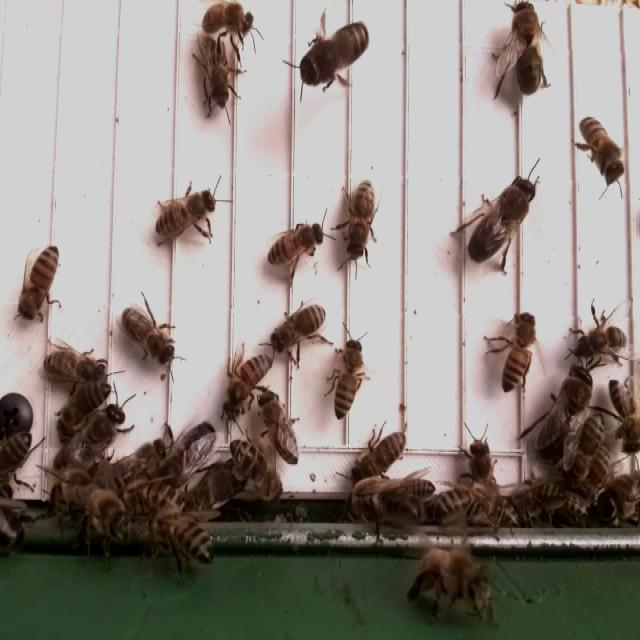Drone: (465, 172, 536, 268), (533, 362, 593, 465), (296, 16, 372, 91), (53, 402, 126, 480), (157, 417, 220, 490), (508, 0, 546, 99)
Worker: (151, 188, 219, 240), (498, 307, 536, 399), (227, 436, 284, 496), (348, 428, 409, 484), (42, 342, 111, 391), (224, 353, 275, 419), (117, 306, 176, 363), (259, 388, 301, 468), (54, 376, 111, 434), (20, 240, 60, 322), (270, 300, 330, 352), (578, 113, 622, 183), (331, 334, 366, 422), (265, 220, 326, 268), (606, 376, 640, 457), (569, 410, 605, 486), (346, 176, 377, 263), (568, 321, 630, 364), (199, 34, 231, 111), (429, 488, 497, 524), (200, 0, 257, 38)
